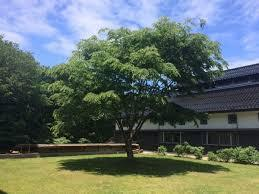tree: (35, 23, 215, 156)
